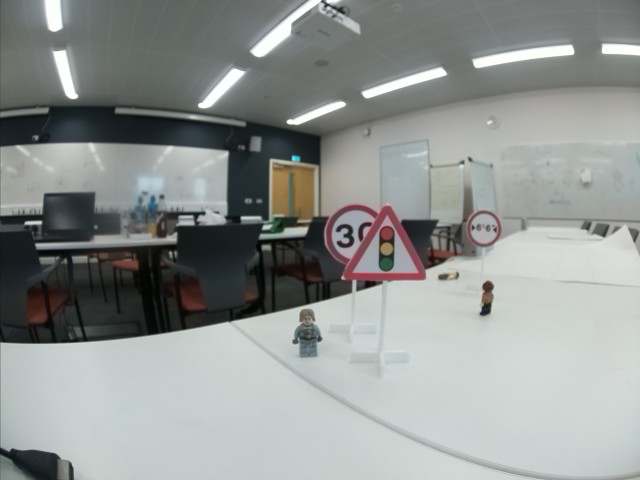30mph: (324, 204, 369, 261)
6ft6: (465, 209, 501, 245)
Lego Man: (290, 305, 324, 359), (480, 279, 493, 318), (435, 271, 461, 280)
Traffic lights: (344, 205, 425, 280)
